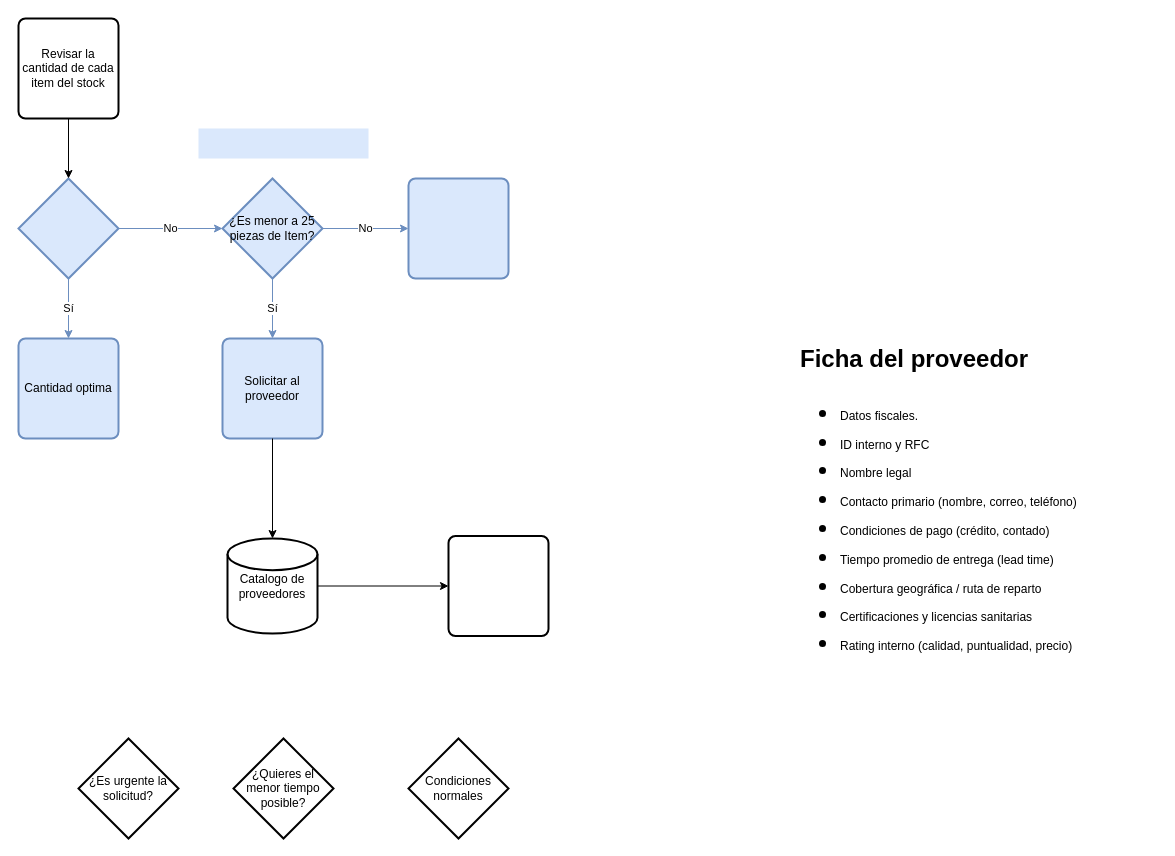
This 1175x856 diagram has some shape labels left out. Each missing label, with the centre of its shape:
"Marcar como advertencia" goes at pixel 458 228.
"Mis puntos de reorden" goes at pixel 283 143.
"Mostrar ficha" goes at pixel 498 585.
"¿Es mayor a 50 piezas de Item?" goes at pixel 68 228.
